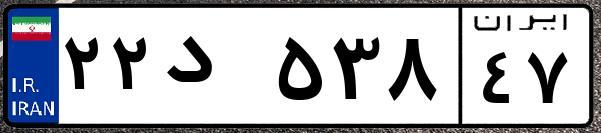2: (57, 26, 110, 100), (110, 28, 158, 98)
3: (330, 28, 385, 110)
4: (475, 38, 525, 113)
5: (270, 28, 330, 110)
7: (525, 38, 570, 115)
8: (385, 28, 445, 110)
د: (158, 20, 270, 120)
